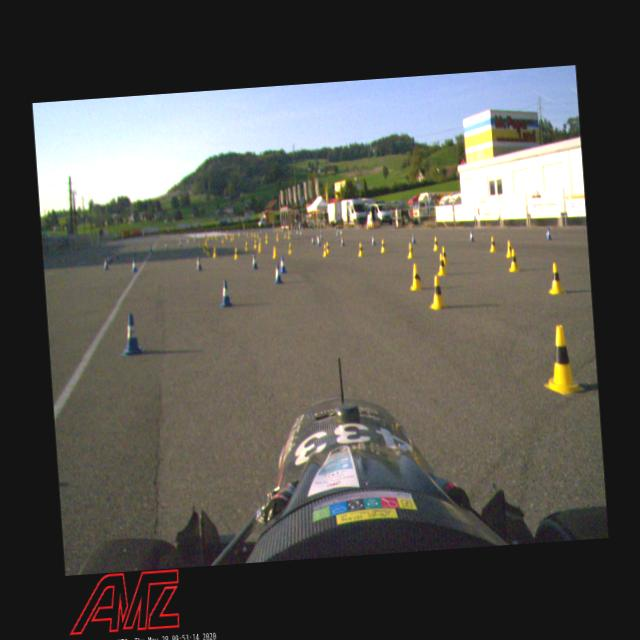blue_cone: (118, 312, 142, 356), (218, 278, 232, 308), (272, 262, 283, 284), (278, 254, 287, 274), (250, 252, 257, 270), (195, 256, 202, 271), (545, 227, 552, 240), (130, 259, 136, 272), (468, 230, 474, 242), (339, 236, 345, 248), (411, 232, 416, 245), (371, 234, 375, 246)
yellow_cone: (540, 323, 582, 398), (427, 273, 445, 312), (545, 260, 564, 294), (408, 262, 422, 290), (507, 248, 520, 272), (436, 252, 446, 276), (505, 238, 514, 258), (488, 236, 497, 252), (406, 241, 414, 258), (378, 237, 386, 253), (441, 246, 448, 264), (356, 242, 364, 256), (270, 246, 278, 260), (232, 246, 239, 261), (286, 241, 294, 254), (432, 236, 438, 252), (322, 242, 328, 258), (326, 242, 330, 255)
